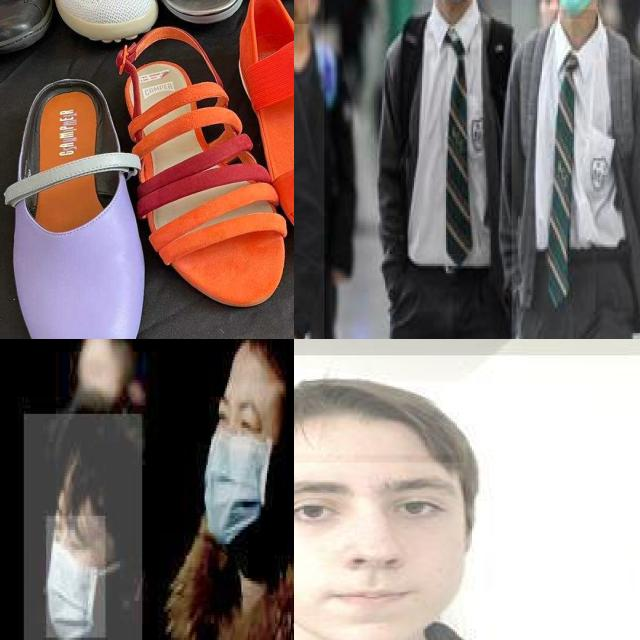No_Glasses: (294, 466, 464, 539)
Sandals: (104, 12, 294, 314), (0, 34, 164, 339), (221, 0, 294, 273), (23, 0, 166, 54)
face_mask: (202, 386, 278, 542), (46, 516, 106, 638)
face_nomask: (294, 462, 463, 640), (294, 0, 309, 26)
head_nohelmet: (294, 381, 468, 454), (220, 339, 294, 385)
person: (294, 355, 640, 640), (348, 0, 529, 339), (147, 339, 294, 640), (511, 0, 640, 339), (24, 413, 144, 640)
